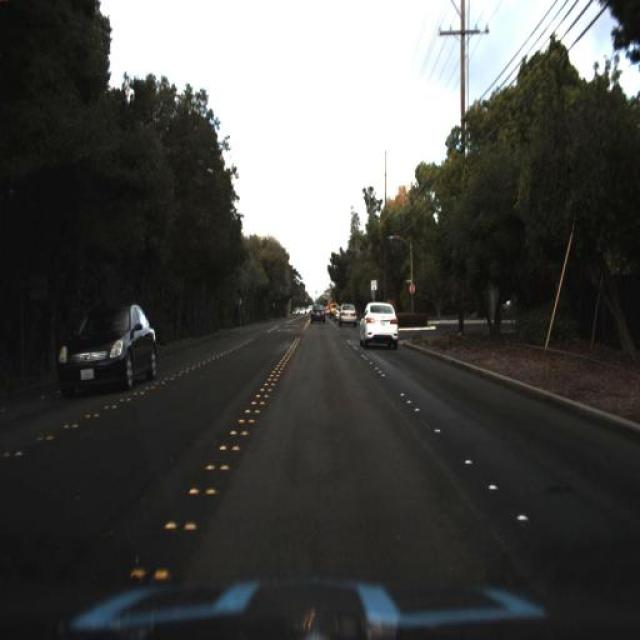car: (58, 302, 160, 392), (356, 298, 400, 352), (335, 298, 353, 328), (306, 305, 326, 329)
